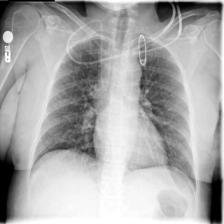normal: (24, 28, 200, 224)
